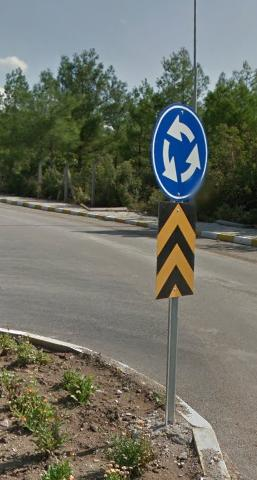crossroads: (155, 108, 207, 199)
